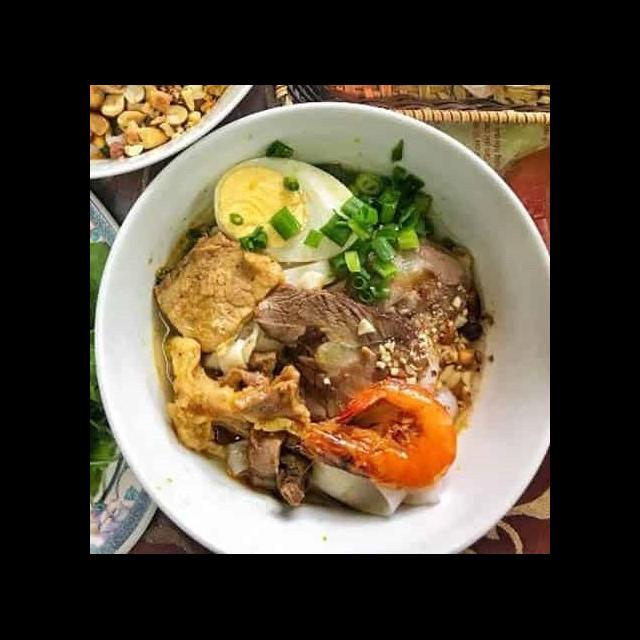mi: (306, 452, 449, 522), (198, 314, 288, 381), (273, 254, 343, 298)
thit heo: (252, 282, 423, 430), (311, 237, 485, 351), (149, 226, 286, 356)
tom: (290, 374, 461, 494)
trung: (210, 154, 373, 268)
